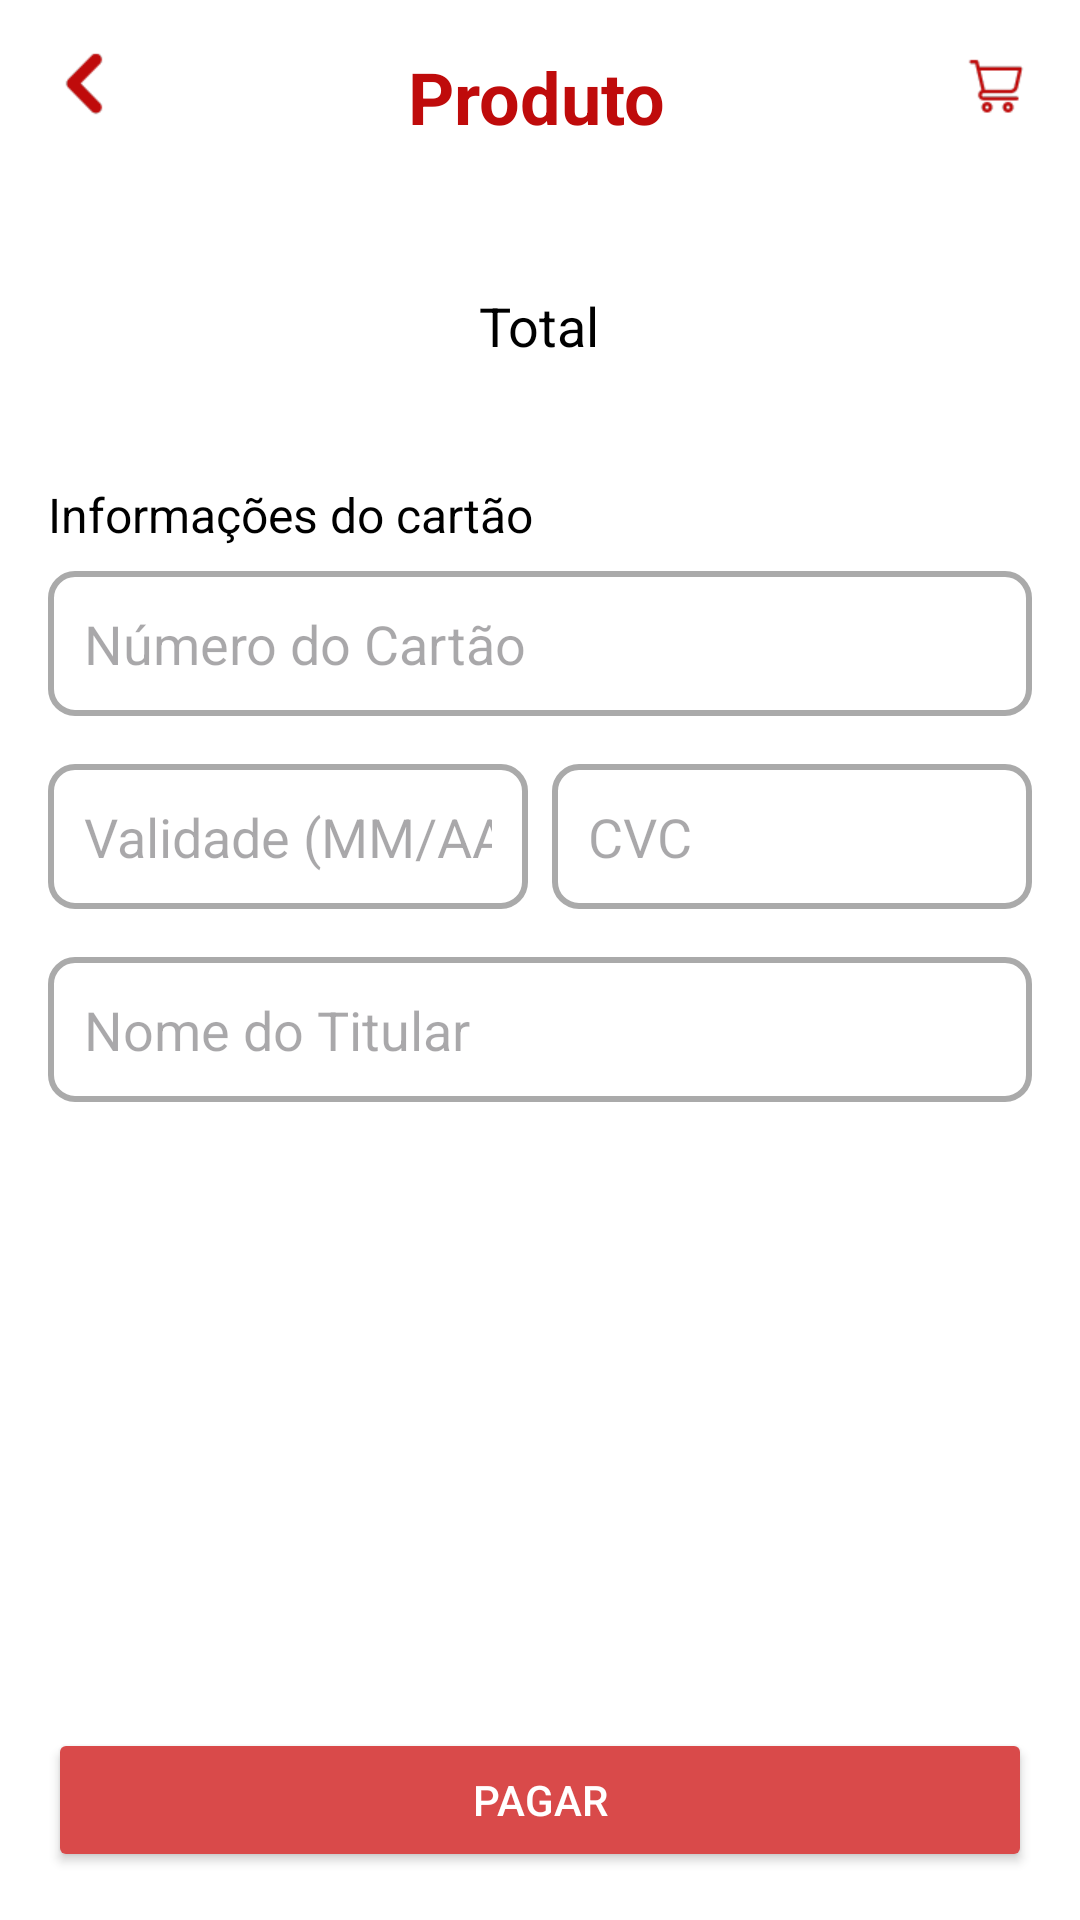

Icons on this 1080 x 1920 Android screen, each with the point to tap as point (x, y):
Ir para o Carrinho: point (996, 86)
Voltar: point (84, 83)
